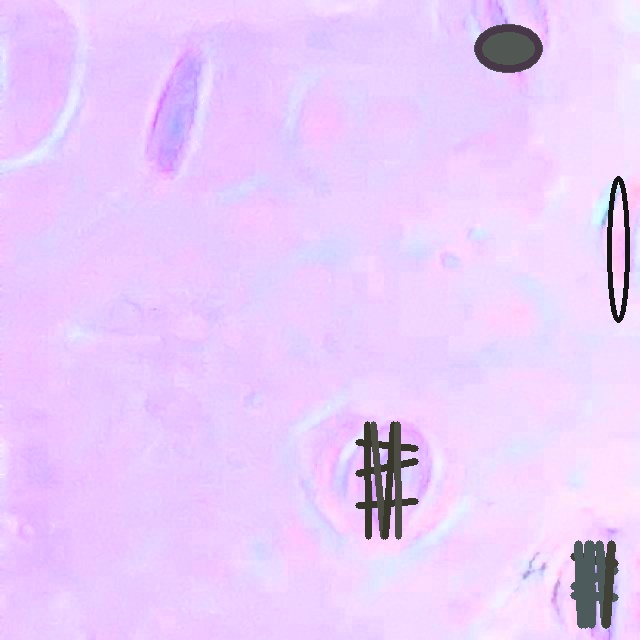open: (355, 421, 418, 539), (570, 540, 618, 628), (607, 176, 630, 322), (474, 23, 541, 73)
